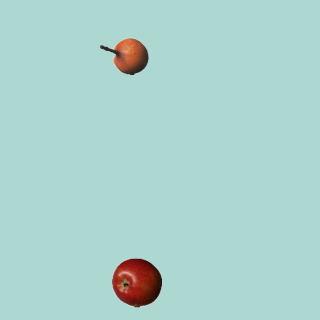Apple Braeburn: (111, 257, 161, 307)
Granadilla: (98, 31, 148, 81)
